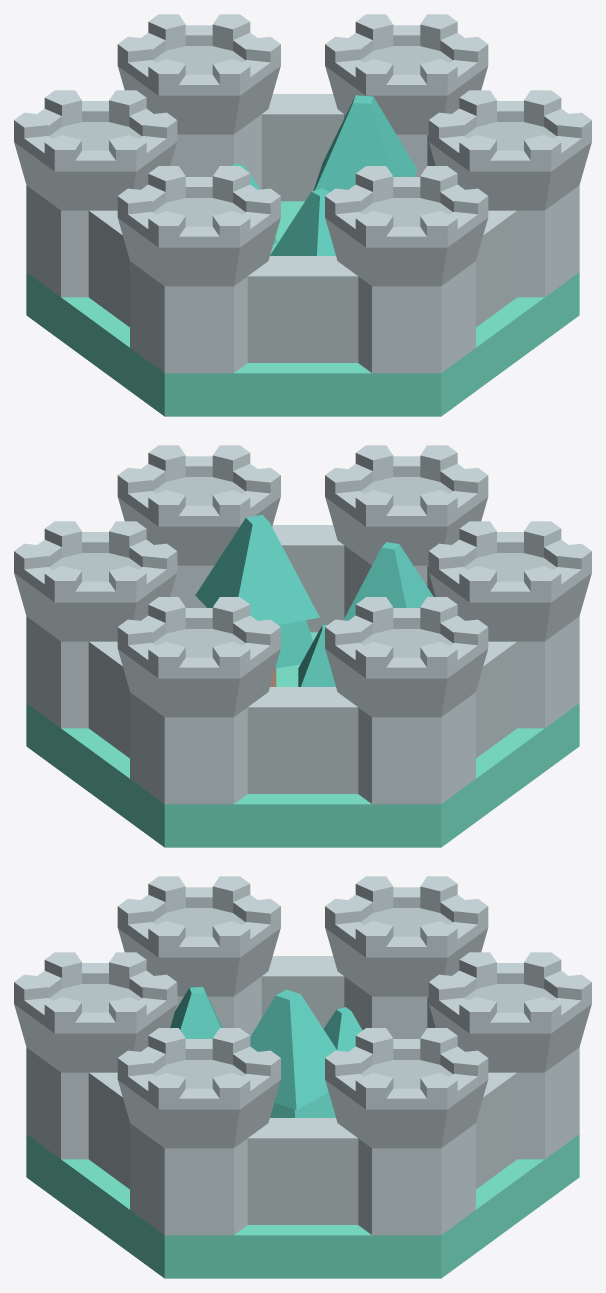
Rendered from Castle.fbx.
3 views of the same model, one above another, from view 1: azimuth 30°, elevation 25°; view 2: azimuth 150°, elevation 25°; view 3: azimuth 270°, elevation 25° (orthographic).
Parts seen in each view (by area): view 1: building_castle; view 2: building_castle; view 3: building_castle.
Part boxes in pixels (x1=…): building_castle: x1=14, y1=14, x2=591, y2=416; building_castle: x1=14, y1=445, x2=591, y2=847; building_castle: x1=14, y1=876, x2=591, y2=1278.
Size of the model in its own units: 104 by 48 by 121.
